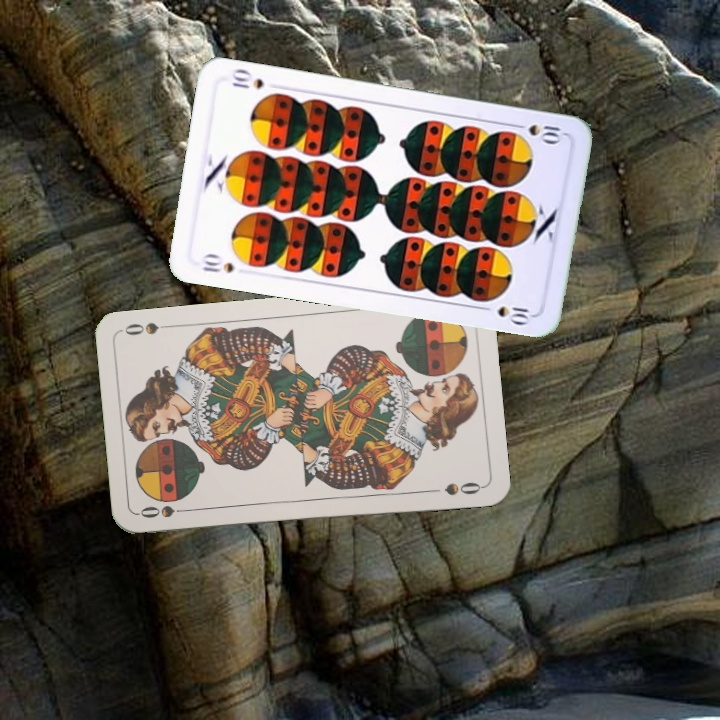S10: (508, 119, 567, 145), (198, 250, 236, 276)
SO: (136, 501, 196, 521)
